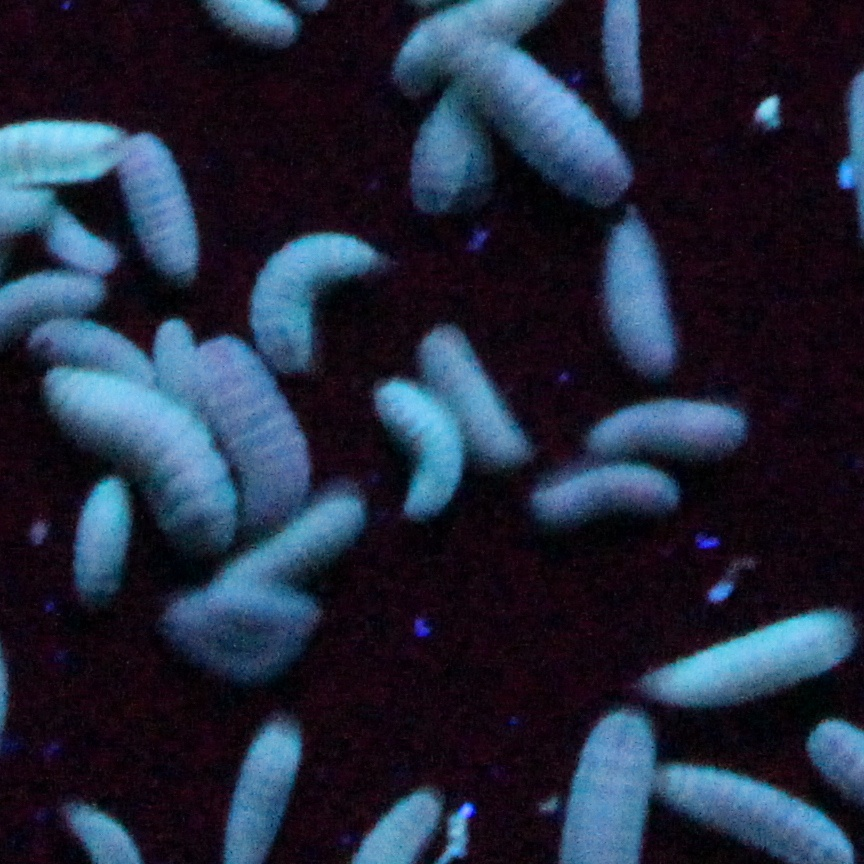larve: (32, 356, 227, 546), (446, 40, 625, 200), (195, 327, 303, 525), (642, 607, 853, 701), (212, 490, 359, 615), (261, 222, 378, 362), (413, 320, 511, 460), (110, 133, 198, 288), (379, 369, 464, 523), (224, 716, 309, 859), (591, 391, 742, 465), (604, 214, 677, 367), (419, 71, 485, 221), (35, 309, 148, 380), (71, 484, 137, 593), (522, 467, 684, 510), (34, 207, 135, 259)
